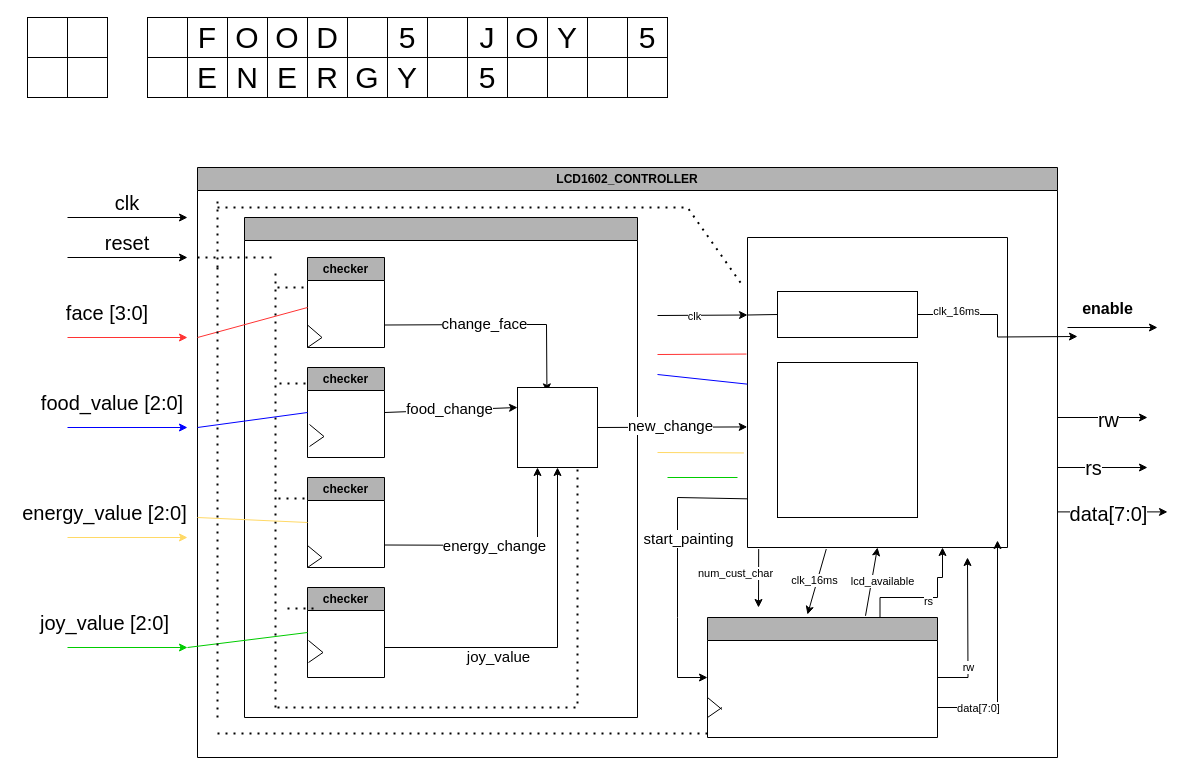
This 1193x775 diagram has some shape labels left out. Each missing label, with the box of its shape:
divisor de frecuencia: (776, 290, 918, 338)
FSM: (776, 362, 918, 518)
LCD1602_CUST_CHAR: (706, 616, 938, 738)
task_manager: (244, 216, 638, 718)
